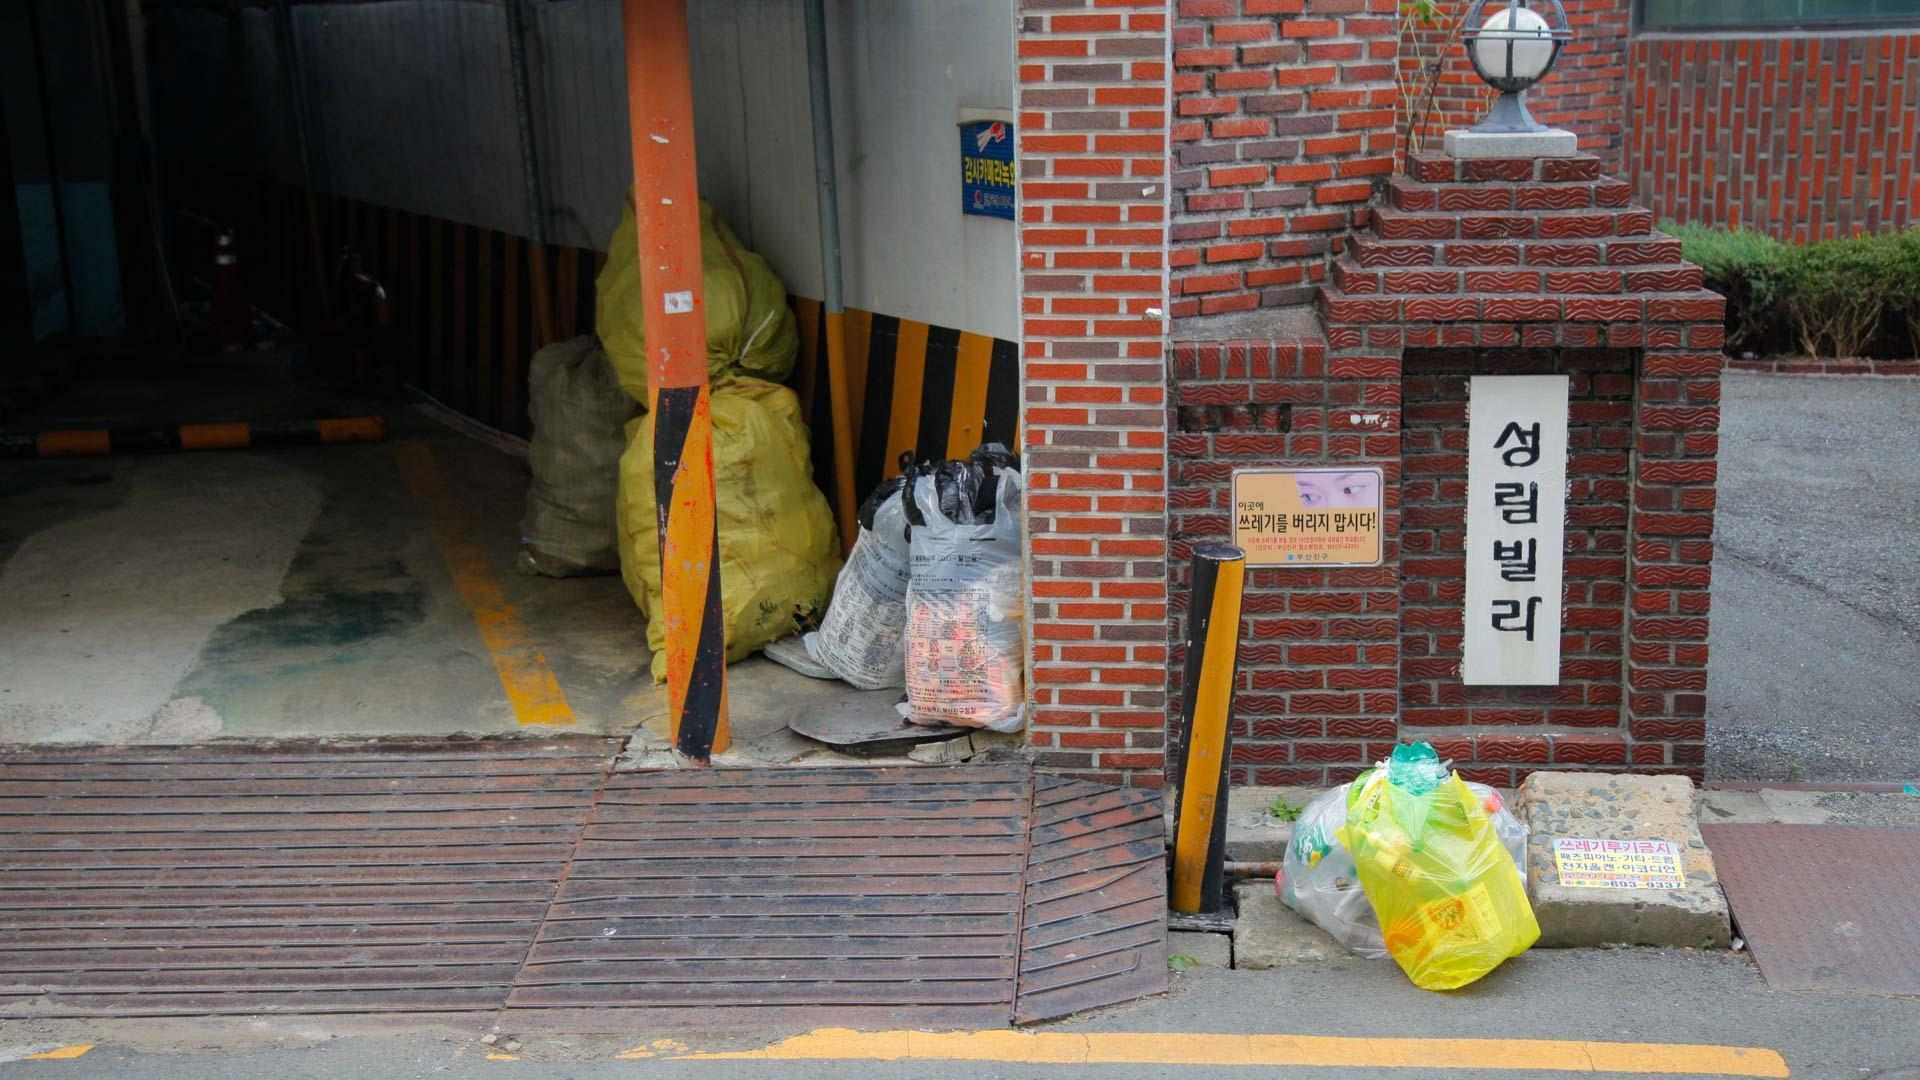white_bag: (1267, 766, 1543, 961), (891, 444, 1040, 735), (798, 456, 931, 698)
